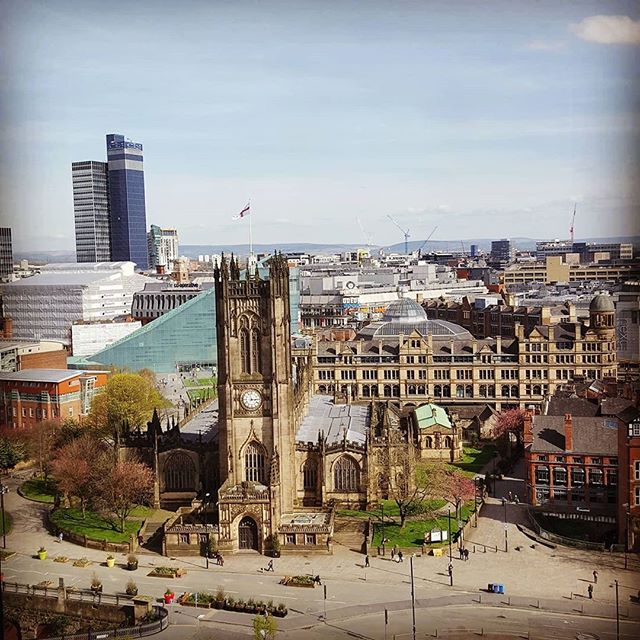building: (161, 268, 411, 541), (307, 311, 610, 415), (518, 400, 640, 554), (1, 251, 140, 347), (1, 355, 122, 457), (106, 120, 148, 263), (70, 156, 117, 270)
sky: (16, 1, 640, 239)
